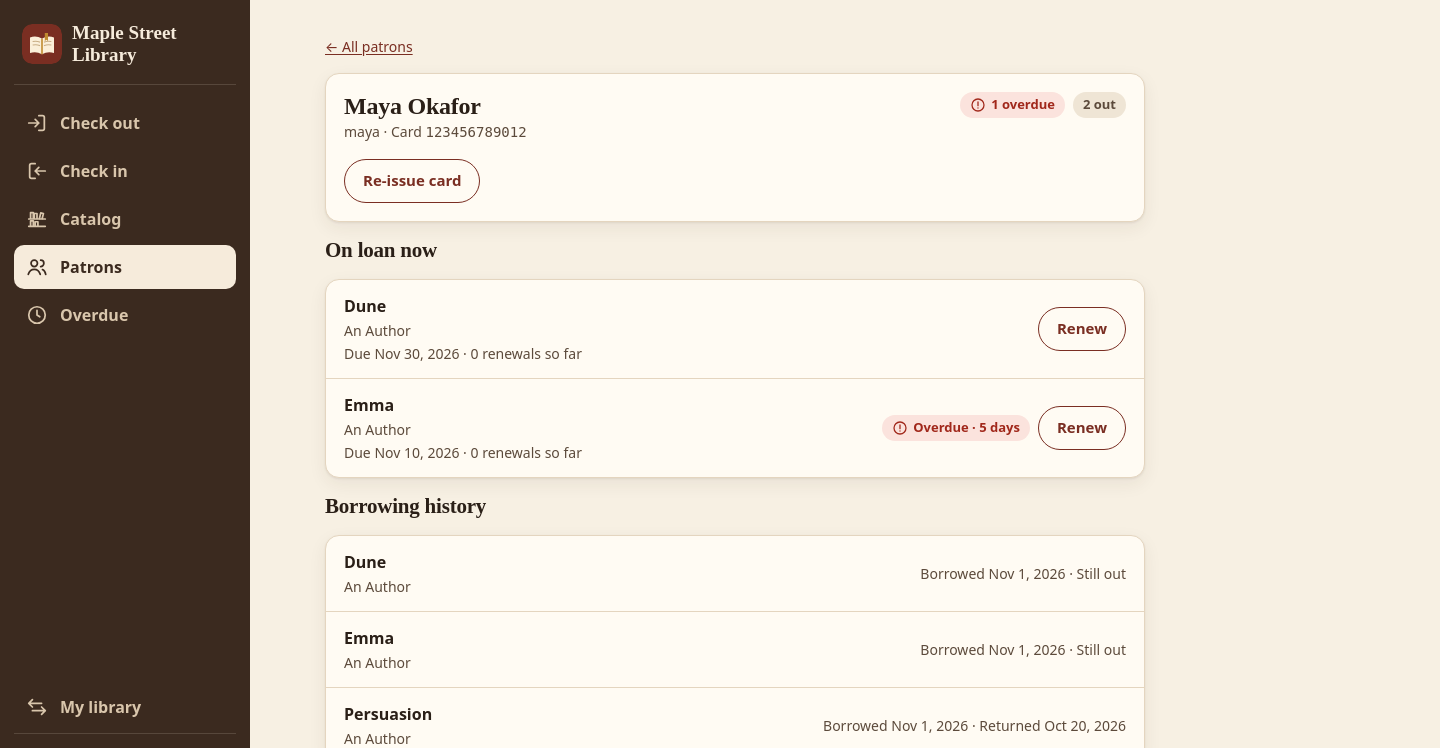
Scenario: CIRC-5 Renewals › Over limit: the refusal is shown
Click the button with aria-label "Renew Dune". click: {"x": 1082, "y": 329}
box: x1=1038 y1=307 x2=1126 y2=351
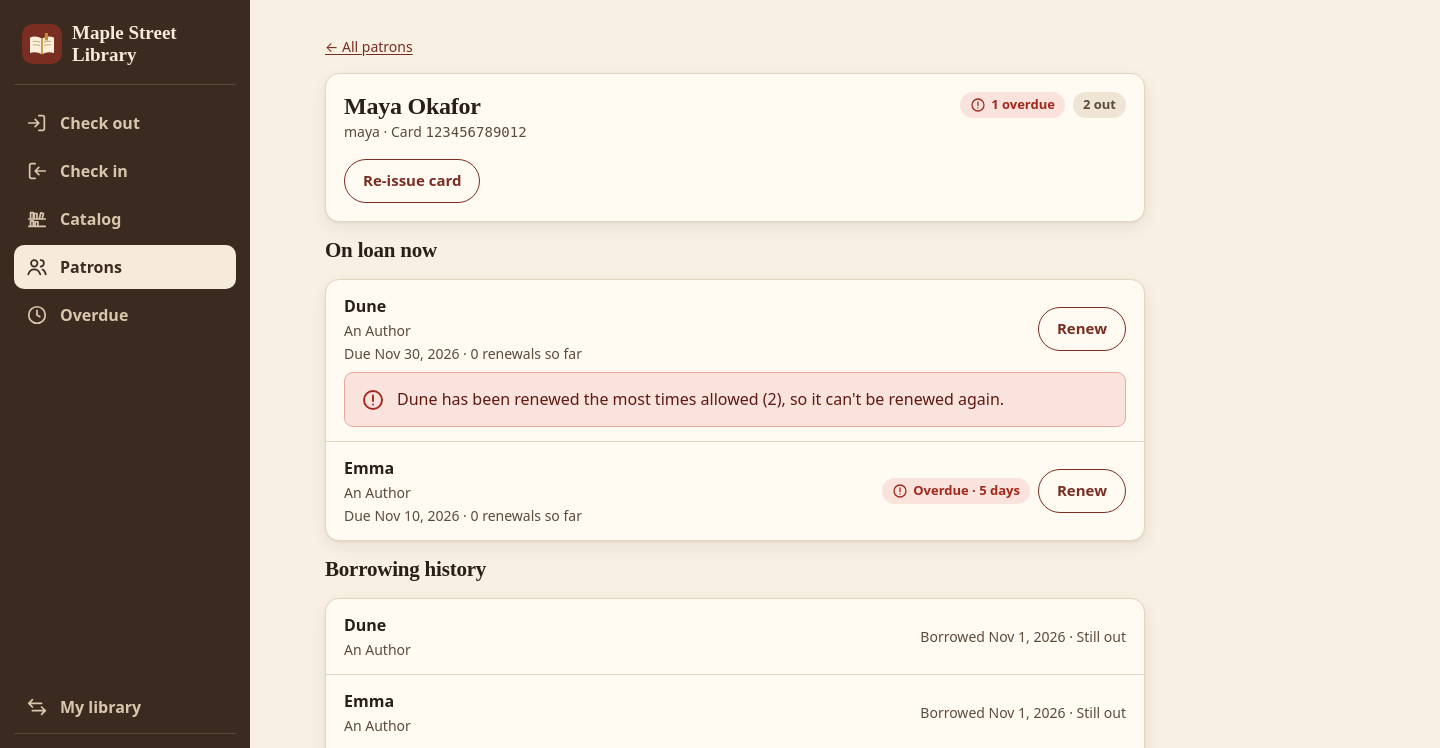
Result: the message shows "most times allowed" at x1=397 y1=388 x2=1004 y2=410
